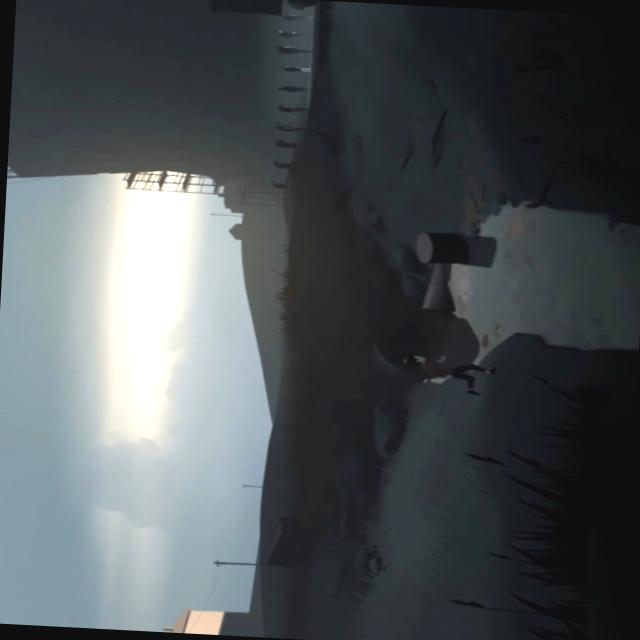boy: (402, 353, 496, 392)
zombie: (276, 44, 314, 56), (278, 12, 315, 22), (276, 84, 310, 94), (278, 103, 310, 113), (277, 30, 315, 38), (276, 121, 304, 131), (276, 138, 300, 148), (282, 64, 310, 72), (270, 180, 293, 188), (273, 160, 293, 168)
